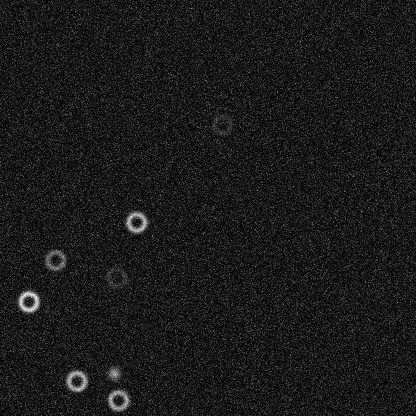Ring: (104, 265, 128, 289), (106, 388, 130, 412), (64, 368, 88, 392), (16, 289, 40, 313), (124, 210, 148, 234), (210, 112, 234, 136), (43, 248, 67, 272)
Spot: (105, 365, 121, 381)
